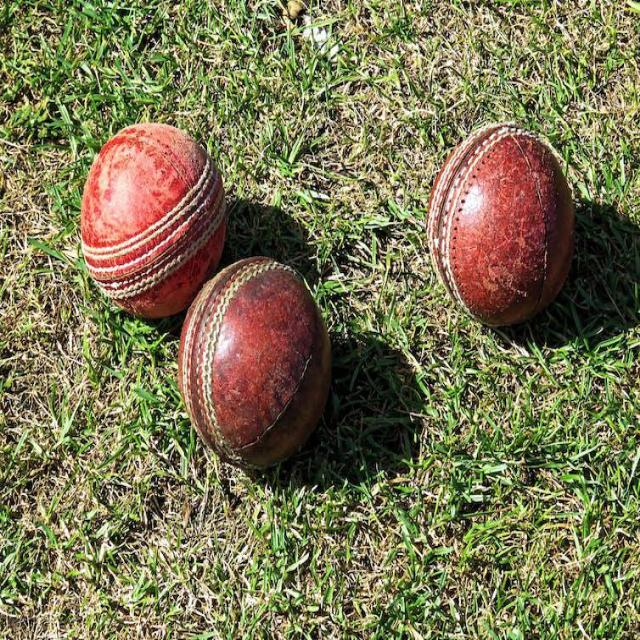ball: (179, 257, 339, 471), (428, 122, 577, 328), (78, 125, 228, 322)
